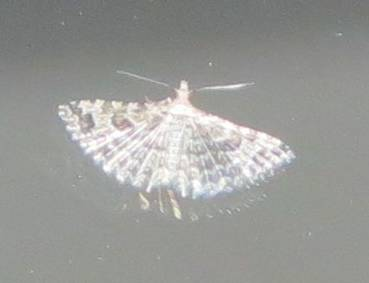Alucitidae: (54, 59, 299, 220)
moth: (52, 57, 297, 218)
